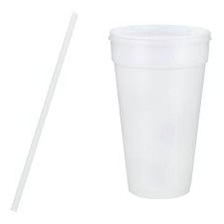drinking_straw: (5, 8, 83, 216)
paper_cup: (102, 18, 214, 204)
